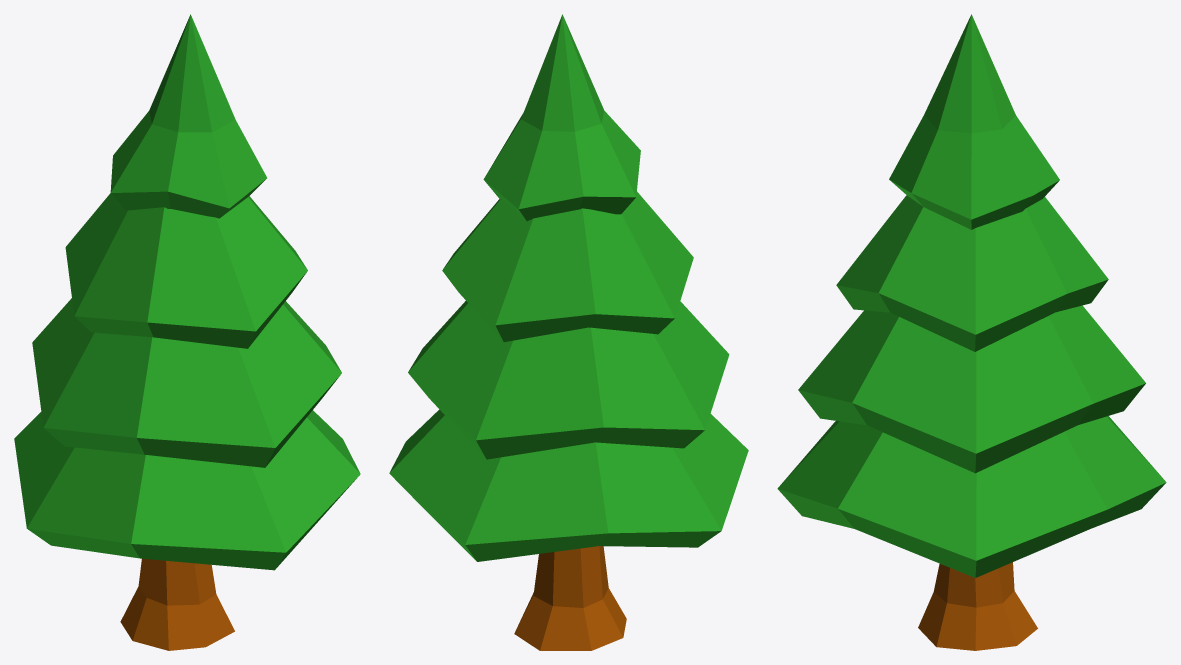
The model's file is Tree_Spruce3.fbx.
3 views of the same model, side by side, from view 1: azimuth 30°, elevation 25°; view 2: azimuth 150°, elevation 25°; view 3: azimuth 270°, elevation 25° (orthographic).
Parts seen in each view (by area): view 1: Tree_Spruce3; view 2: Tree_Spruce3; view 3: Tree_Spruce3.
Boxes of the visible parts, x1=… form: Tree_Spruce3: x1=14, y1=14, x2=360, y2=650; Tree_Spruce3: x1=389, y1=14, x2=748, y2=650; Tree_Spruce3: x1=777, y1=14, x2=1166, y2=650.
Size of the model in its own units: 5.26 by 5.53 by 9.71.
